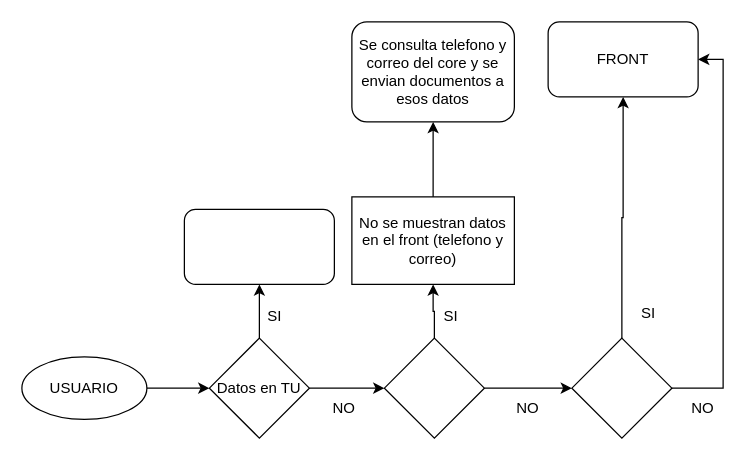
The diagram is 755 pixels wide and 460 high, and some of its shapes have lost their labels. The shapes that lost their labels are listed below. From the top down, each one's box as (x1, y1, x2, y2) in pixels, then its label:
(183, 208, 334, 284): Se precarga la informacion en el front
(383, 337, 484, 438): Tiene p activos
(571, 337, 672, 438): Creado BD
